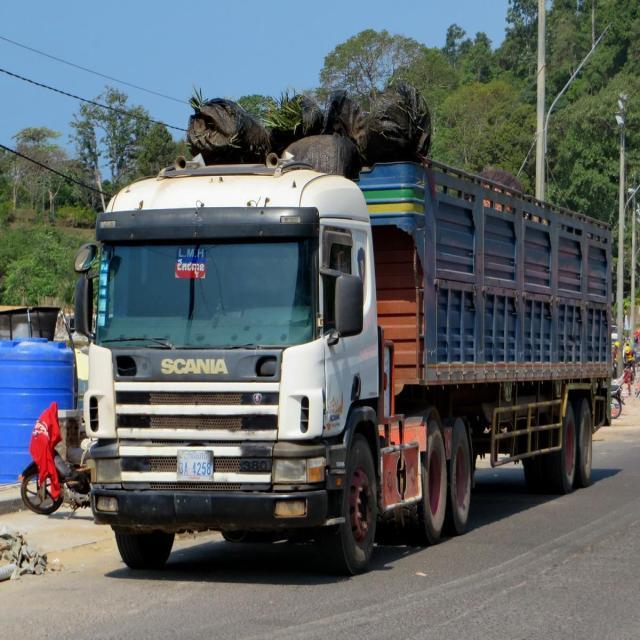Pursat: (182, 451, 208, 462)
